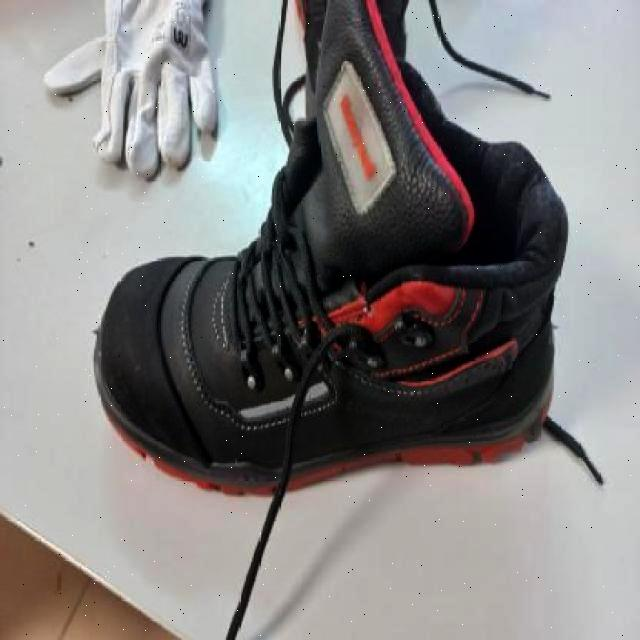Gloves: (44, 0, 221, 175)
Shoes: (95, 0, 564, 495)
